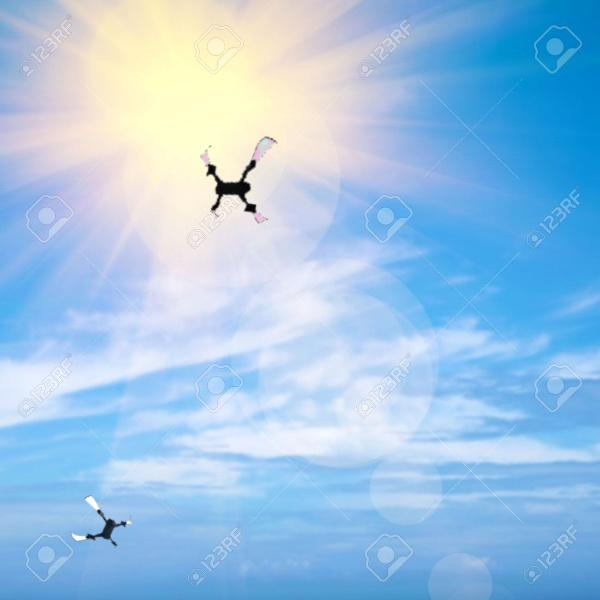drone: (192, 127, 298, 233), (69, 496, 131, 558)
